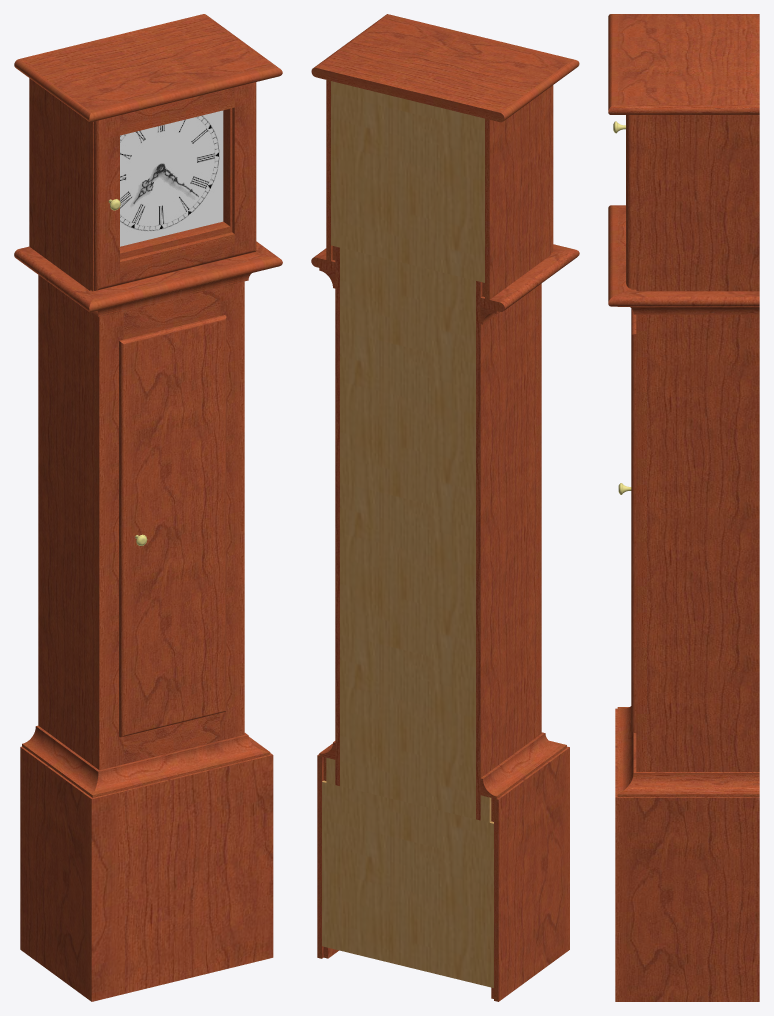
File: shaker_clock.dae
3 views of the same model, side by side, from view 1: azimuth 30°, elevation 25°; view 2: azimuth 150°, elevation 25°; view 3: azimuth 270°, elevation 25° (orthographic).
Parts seen in each view (by area): view 1: Component_16, Component_21, Component_17, Component_40, Component_25, Component_27 (×2), Component_48, Component_34, Component_29, Component_33, Component_28 (×2), Component_9 (+8 smaller); view 2: Component_43, Component_30, Component_17, Component_44, Component_40, Component_25 (×2), Component_34 (×2), Component_27, Component_19, Component_33, Component_36, Component_22 (+2 smaller); view 3: Component_19, Component_22, Component_46, Component_40, Component_29, Component_33, Component_16, Component_35, Component_8, Component_37, Component_39.
Part boxes in pixels (<box>): Component_16: <box>119,315,226,737</box>; Component_21: <box>91,754,273,1001</box>; Component_17: <box>38,275,94,765</box>; Component_40: <box>14,14,282,122</box>; Component_25: <box>20,746,92,1001</box>; Component_27 (×2): <box>94,311,123,770</box>; Component_48: <box>120,110,223,246</box>; Component_34: <box>29,78,90,290</box>; Component_29: <box>220,281,244,740</box>; Component_33: <box>22,725,270,797</box>; Component_28 (×2): <box>123,287,220,764</box>; Component_9: <box>90,115,119,291</box>; Component_43: <box>340,247,475,819</box>; Component_30: <box>322,780,493,987</box>; Component_17: <box>476,281,536,820</box>; Component_44: <box>331,81,484,282</box>; Component_40: <box>311,14,579,122</box>; Component_25 (×2): <box>491,747,569,1001</box>; Component_34 (×2): <box>485,87,550,299</box>; Component_27: <box>536,283,541,736</box>; Component_19: <box>335,246,339,785</box>; Component_33: <box>319,732,566,798</box>; Component_36: <box>480,249,579,311</box>; Component_22: <box>317,755,321,958</box>; Component_19: <box>647,314,759,771</box>; Component_22: <box>615,797,759,1001</box>; Component_46: <box>636,115,759,291</box>; Component_40: <box>608,14,759,114</box>; Component_29: <box>636,314,646,771</box>; Component_33: <box>617,706,759,796</box>; Component_16: <box>631,308,636,732</box>; Component_35: <box>608,289,759,306</box>; Component_8: <box>626,115,636,289</box>; Component_37: <box>608,205,630,301</box>; Component_39: <box>618,306,759,314</box>.
Bounding box in the file's own units: 16 × 10.75 × 70.34.
